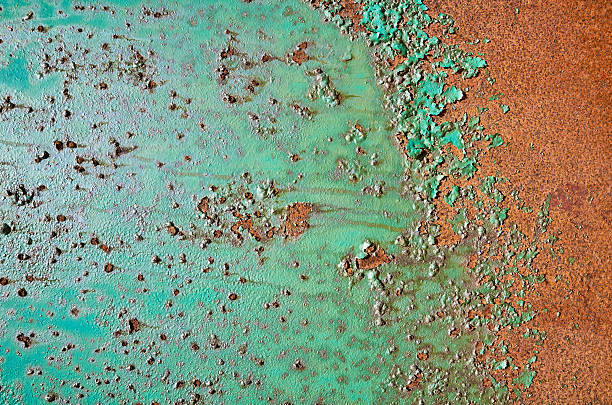rust: (356, 5, 611, 402), (49, 305, 241, 402), (4, 152, 130, 283), (27, 28, 168, 134), (201, 35, 342, 140), (177, 172, 347, 252)
